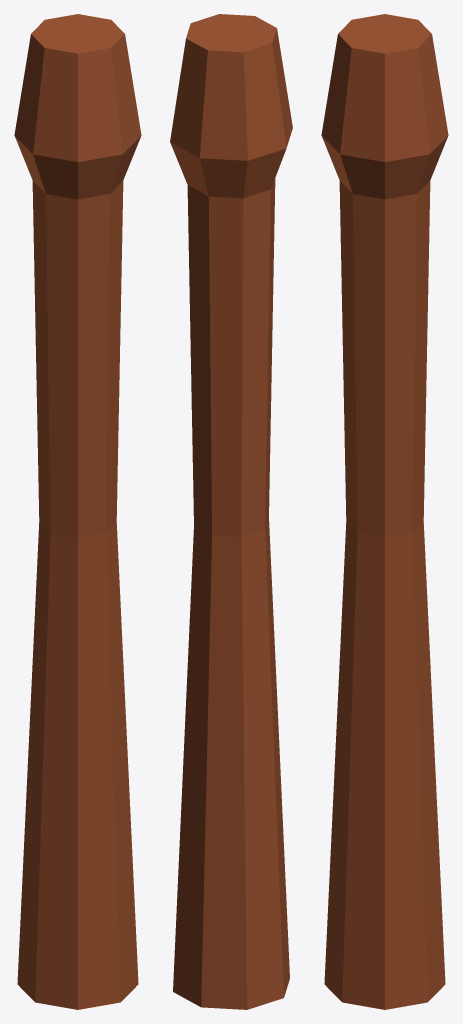
The model's file is Vegetation_Tree_Trunk_Palm_Simple_02.FBX.
3 views of the same model, side by side, from view 1: azimuth 90°, elevation 25°; view 2: azimuth 150°, elevation 25°; view 3: azimuth 270°, elevation 25° (orthographic).
Visible parts, largest first — view 1: Vegetation_Tree_Trunk_Palm_Simple_02; view 2: Vegetation_Tree_Trunk_Palm_Simple_02; view 3: Vegetation_Tree_Trunk_Palm_Simple_02.
Boxes of the visible parts, x1,y1,x2,y2 form: Vegetation_Tree_Trunk_Palm_Simple_02: (14, 14, 141, 1009); Vegetation_Tree_Trunk_Palm_Simple_02: (170, 14, 292, 1009); Vegetation_Tree_Trunk_Palm_Simple_02: (321, 14, 448, 1009).
Size of the model in its own units: 450 by 3713 by 450.
